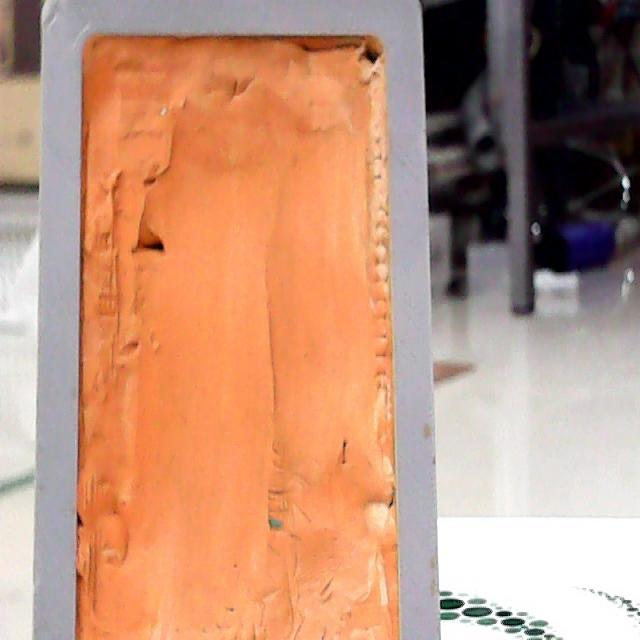block: (19, 1, 448, 640)
